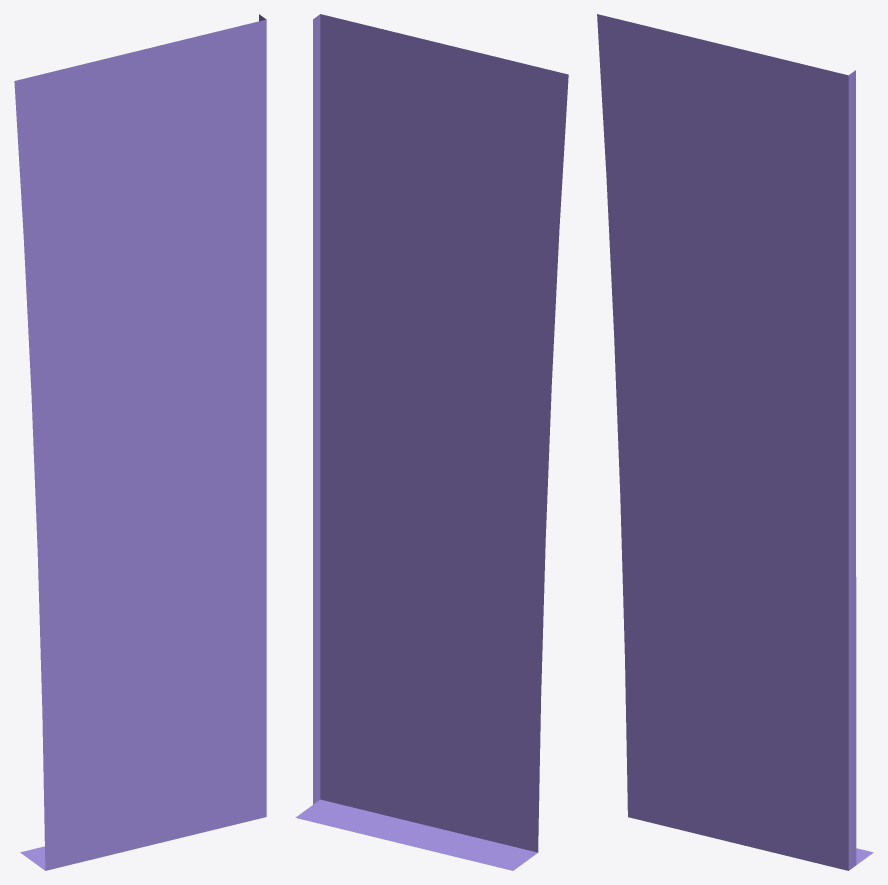
File: puerta1.FBX
3 renders of one model, left to right at view 1: azimuth 30°, elevation 25°; view 2: azimuth 150°, elevation 25°; view 3: azimuth 330°, elevation 25°, orthographic.
Parts seen in each view (by area): view 1: puerta3_low; view 2: puerta3_low; view 3: puerta3_low.
Boxes of the visible parts, box(x1,y1,x2,y2) form: puerta3_low: box(14, 14, 266, 870); puerta3_low: box(295, 14, 568, 870); puerta3_low: box(597, 14, 873, 870).
Size of the model in its own units: 22.77 by 68.8 by 3.97.
